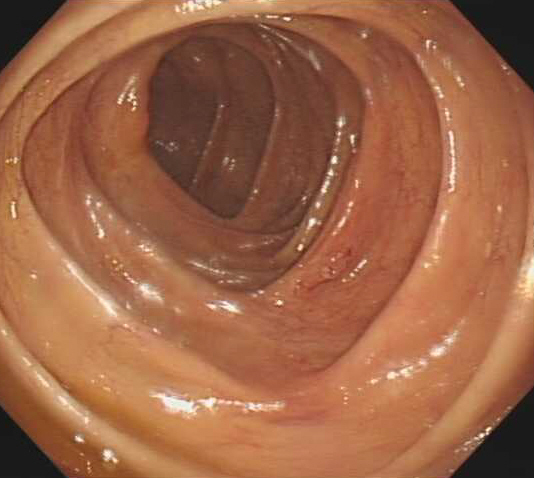others: (102, 72, 153, 158)
